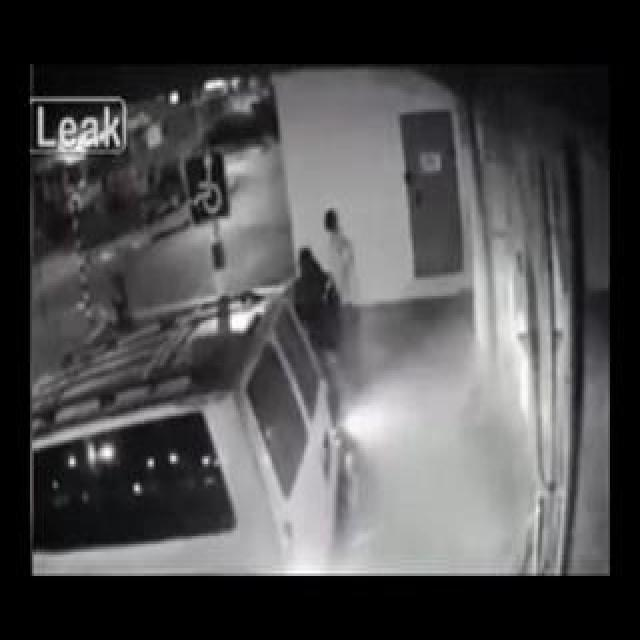burglary: (442, 268, 602, 572)
